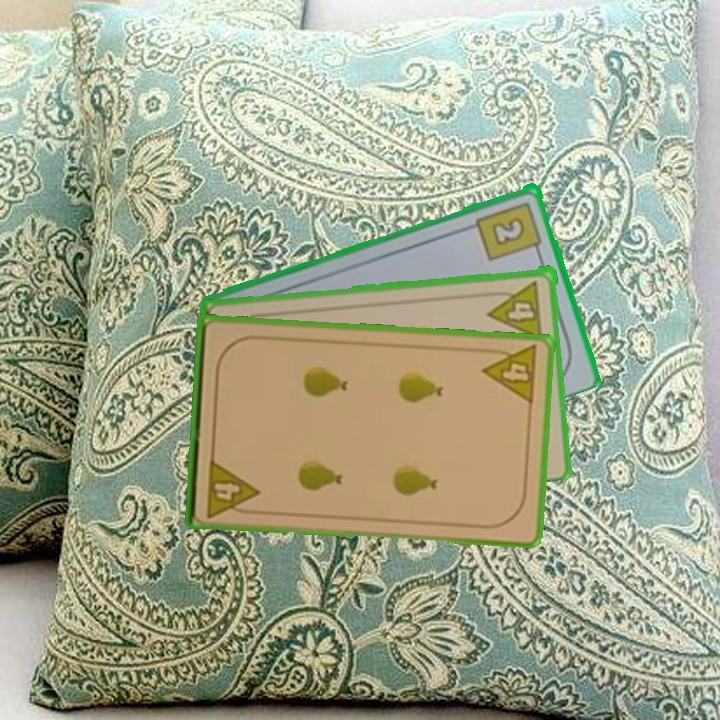2b: (473, 198, 545, 263)
4p: (484, 276, 546, 341), (479, 342, 541, 407), (203, 455, 261, 520)
